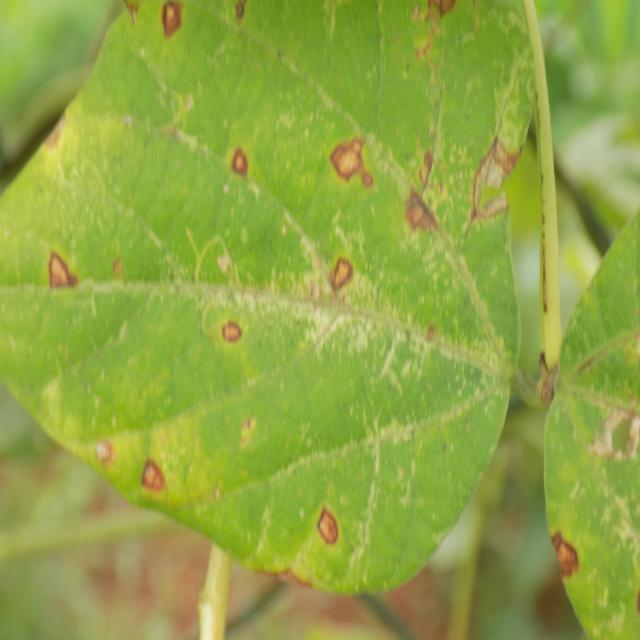Dolicos bean_cercospora leaf spot: (0, 0, 536, 591)
